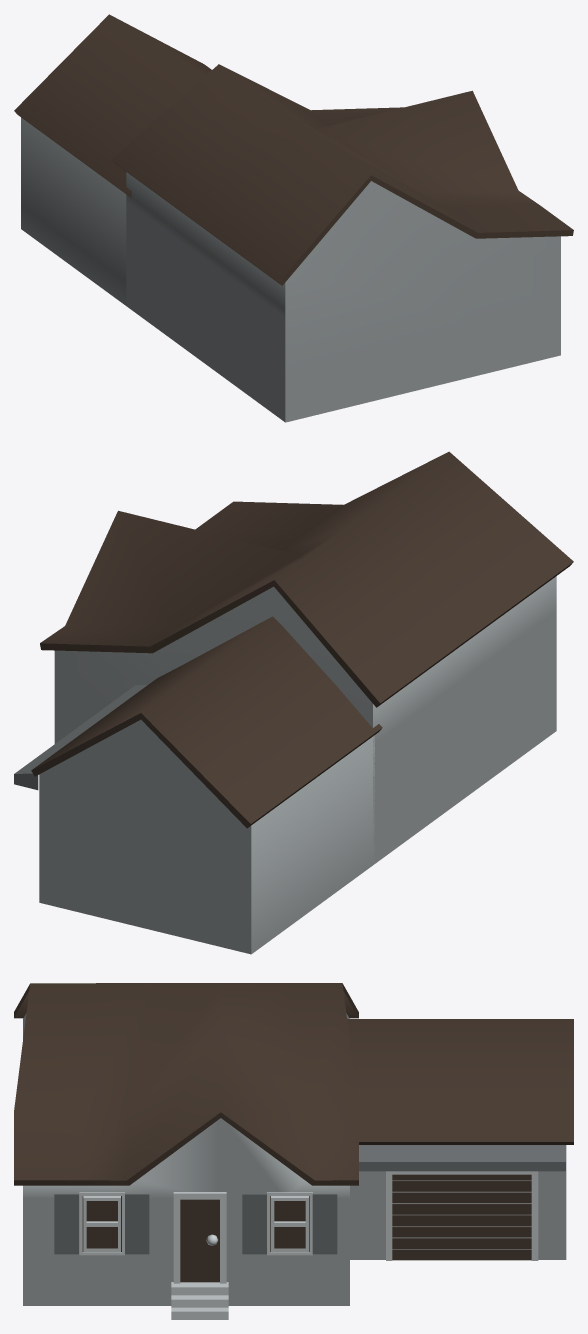
File: house_v02.fbx
3 views of the same model, one above another, from view 1: azimuth 30°, elevation 25°; view 2: azimuth 150°, elevation 25°; view 3: azimuth 270°, elevation 25° (orthographic). The views are drawn at different scales.
Parts seen in each view (by area): view 1: HOUSE, House_Roof, Garage_Roof, Garage; view 2: House_Roof, Garage, HOUSE, Garage_Roof, Awning; view 3: House_Roof, HOUSE, Garage_Roof, Garage_Door, Garage, Awning, Door, Window, Steps, GDoor_Frame, Window_Frame, Frame (+5 smaller).
Boxes of the visible parts, x1=… form: HOUSE: x1=126, y1=172, x2=560, y2=422; House_Roof: x1=111, y1=64, x2=573, y2=285; Garage_Roof: x1=14, y1=14, x2=211, y2=197; Garage: x1=21, y1=117, x2=126, y2=305; House_Roof: x1=40, y1=451, x2=573, y2=707; Garage: x1=39, y1=719, x2=374, y2=954; HOUSE: x1=54, y1=576, x2=556, y2=864; Garage_Roof: x1=31, y1=616, x2=382, y2=828; Awning: x1=14, y1=685, x2=147, y2=790; House_Roof: x1=14, y1=983, x2=358, y2=1185; HOUSE: x1=23, y1=1013, x2=349, y2=1305; Garage_Roof: x1=347, y1=1019, x2=573, y2=1144; Garage_Door: x1=392, y1=1174, x2=531, y2=1260; Garage: x1=350, y1=1145, x2=566, y2=1259; Awning: x1=359, y1=1145, x2=565, y2=1171; Door: x1=180, y1=1199, x2=219, y2=1282; Window: x1=79, y1=1192, x2=124, y2=1255; Steps: x1=171, y1=1282, x2=228, y2=1319; GDoor_Frame: x1=386, y1=1171, x2=538, y2=1260; Window_Frame: x1=267, y1=1192, x2=312, y2=1255; Frame: x1=173, y1=1192, x2=226, y2=1283.
Bounding box in the file's own units: 227 × 155 × 342.
